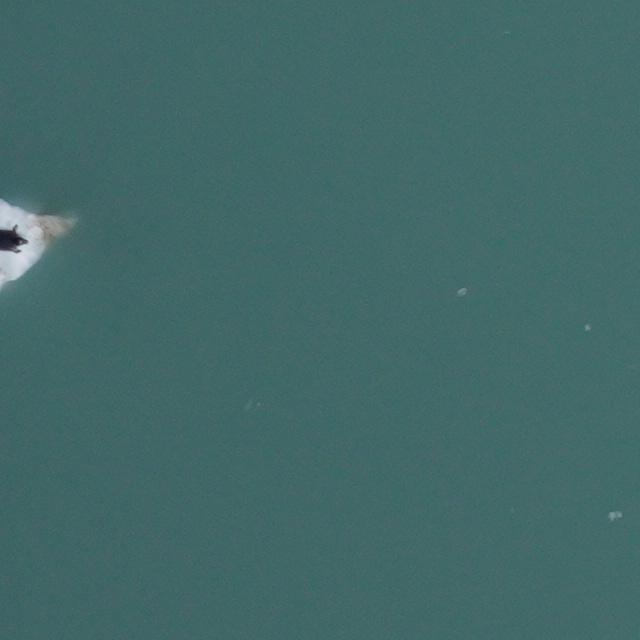seal: (0, 221, 31, 259)
